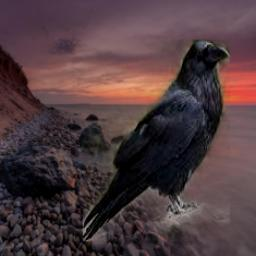Crow: (82, 40, 229, 241)
